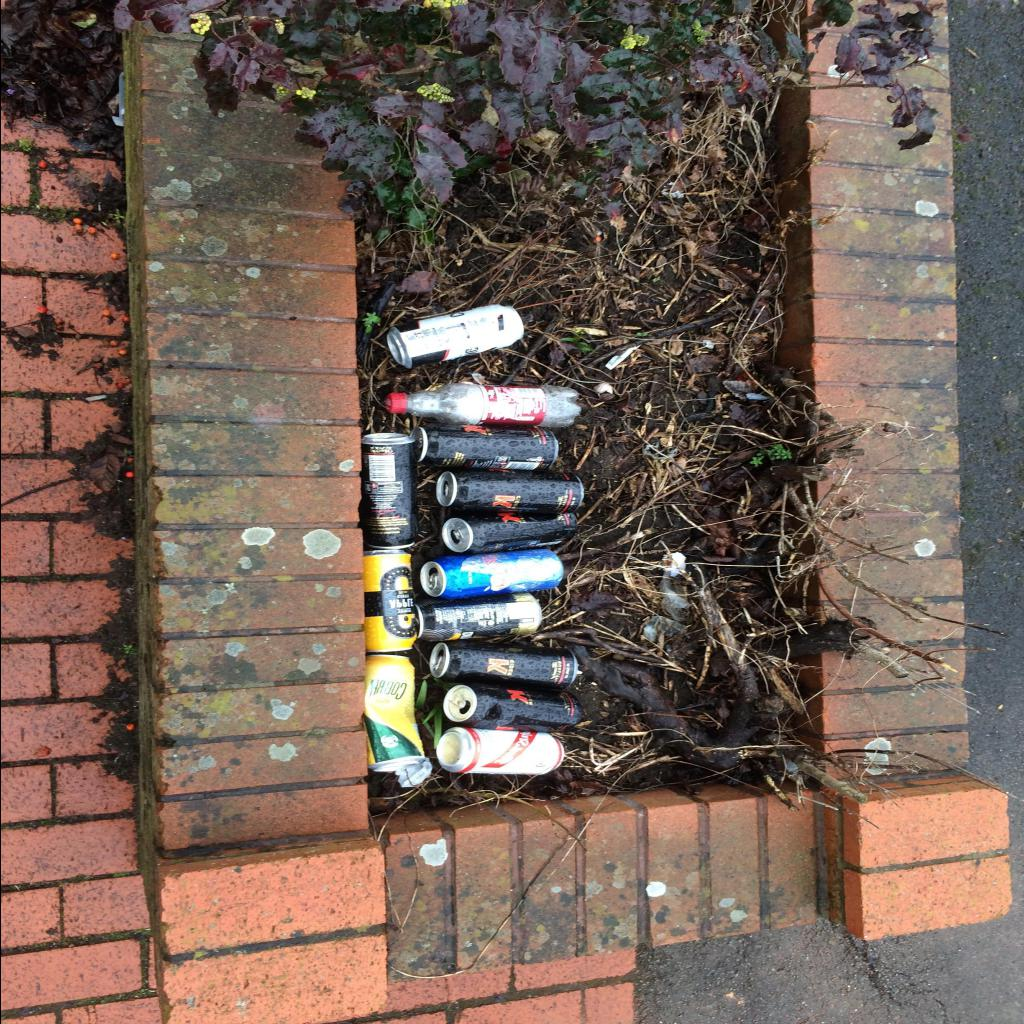Clear plastic bottle: (383, 383, 581, 427)
Drink can: (385, 304, 523, 368), (429, 640, 577, 690), (408, 423, 558, 471), (356, 434, 418, 550), (362, 656, 424, 772), (420, 549, 562, 599), (442, 683, 582, 731), (434, 468, 584, 512), (414, 592, 540, 642), (436, 726, 562, 774), (442, 510, 576, 554), (361, 550, 417, 652)
Plastic bottle cap: (384, 393, 400, 413)
Pop tab: (446, 692, 466, 708), (432, 657, 442, 669), (428, 576, 436, 590), (452, 530, 462, 540), (442, 484, 448, 495)
Unlabeled litter: (394, 758, 430, 786), (644, 616, 682, 640), (664, 581, 686, 619), (606, 346, 642, 369), (670, 552, 686, 578), (84, 394, 108, 400)
